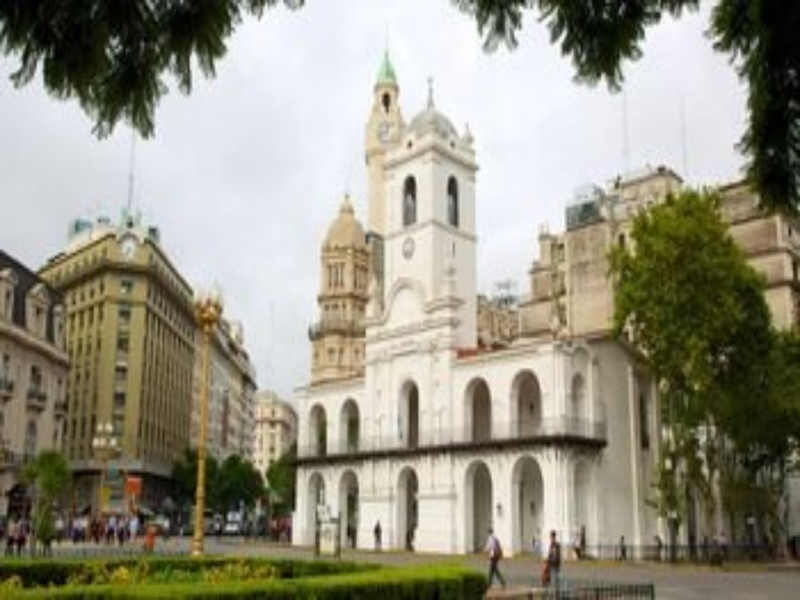cabildo: (286, 77, 609, 555)
